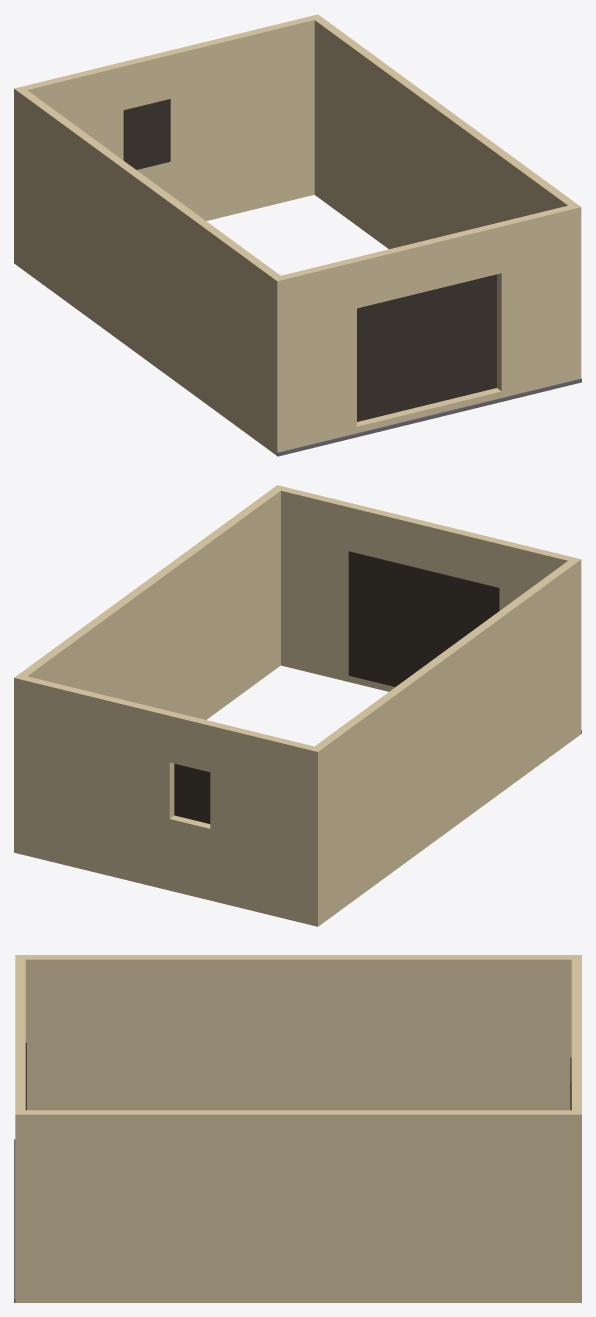
The model's file is SM_Floor_NarrowUpperBalcony_Yellow_546_Back_01.gltf.
3 renders of one model, top to bottom at view 1: azimuth 30°, elevation 25°; view 2: azimuth 150°, elevation 25°; view 3: azimuth 270°, elevation 25°, orthographic. The views are drawn at different scales.
Parts seen in each view (by area): view 1: SM_Floor_NarrowUpperBalcony_Yellow_546_Back_01; view 2: SM_Floor_NarrowUpperBalcony_Yellow_546_Back_01; view 3: SM_Floor_NarrowUpperBalcony_Yellow_546_Back_01.
Boxes of the visible parts, x1,y1,x2,y2 form: SM_Floor_NarrowUpperBalcony_Yellow_546_Back_01: (14,14,581,456); SM_Floor_NarrowUpperBalcony_Yellow_546_Back_01: (14,485,581,926); SM_Floor_NarrowUpperBalcony_Yellow_546_Back_01: (14,955,581,1302).
Bounding box in the file's own units: 5.46 × 3 × 8.21.
1 material, 1 textured.
